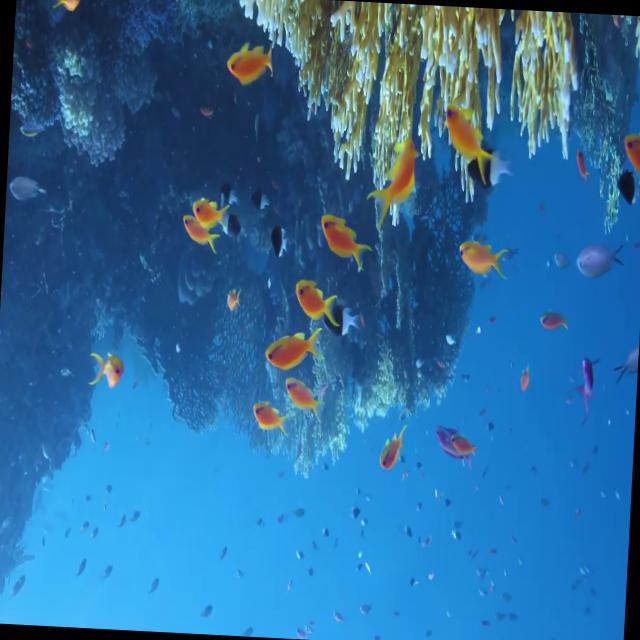fish: (366, 128, 419, 222), (445, 107, 495, 175), (320, 212, 372, 276), (266, 320, 318, 369), (457, 237, 513, 276), (228, 42, 272, 90), (577, 243, 631, 280), (250, 391, 287, 438), (283, 369, 319, 416), (188, 192, 230, 232), (380, 433, 408, 470)
